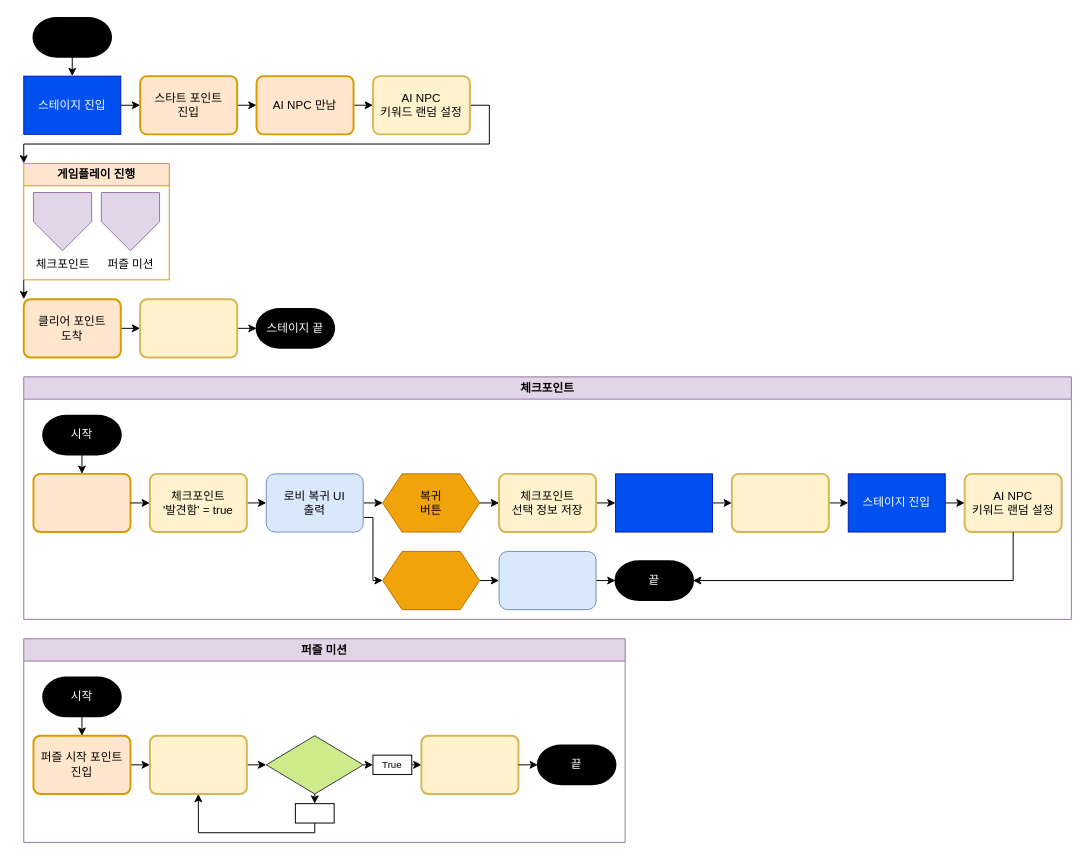
The diagram is 1088 pixels wide and 859 high, and some of its shapes have lost their labels. The shapes that lost their labels are listed below. From the top down, each one's centre as x and y in pixels, then its label:
At (x=72, y=36): "스테이지 시작".
At (x=188, y=328): "스테이지 클리어 보상 획득".
At (x=81, y=502): "체크포인트 진입".
At (x=663, y=502): "로비 진입".
At (x=779, y=502): "플레이어 능력 설정".
At (x=431, y=580): "닫기 버튼".
At (x=547, y=580): "로비 복귀 UI 닫기".
At (x=197, y=764): "퍼즐 미션 수행".
At (x=314, y=764): "퍼즐을 완료했는가".
At (x=469, y=764): "해당 퍼즐 '완료함' = true".
At (x=314, y=813): "False".
